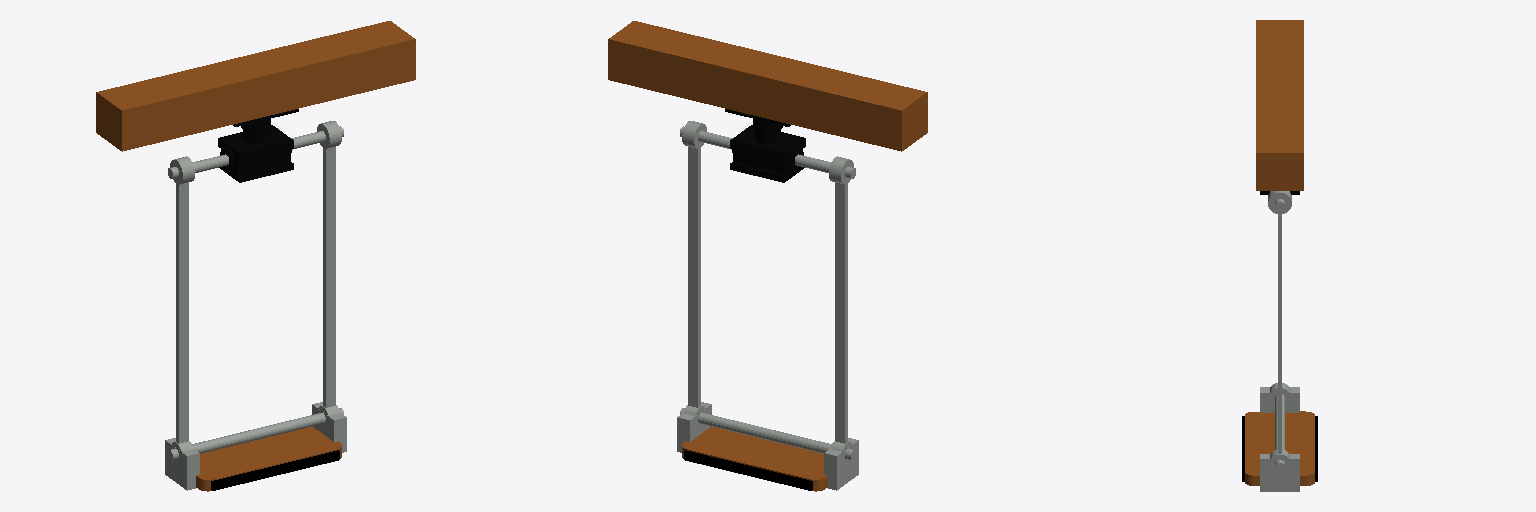
URDF robot description (strap_swing_swivel):
<robot name="strap_swing_swivel">
  <material name="warm_oiled_wood">
    <color rgba="0.6 0.36 0.16 1" />
    </material>
  <material name="dark_blued_steel">
    <color rgba="0.05 0.055 0.06 1" />
    </material>
  <material name="brushed_galvanized_steel">
    <color rgba="0.62 0.64 0.62 1" />
    </material>
  <material name="black_rubber_edge">
    <color rgba="0.01 0.01 0.012 1" />
    </material>
  <link name="beam">
    <visual name="timber_beam">
      <origin xyz="0 0 0.16" rpy="0 0 0" />
      <geometry>
        <box size="1.2 0.18 0.16" />
        </geometry>
      <material name="warm_oiled_wood">
        <color rgba="0.6 0.36 0.16 1" />
        </material>
      </visual>
    <visual name="mount_plate">
      <origin xyz="0 0 0.071" rpy="0 0 0" />
      <geometry>
        <box size="0.26 0.16 0.018" />
        </geometry>
      <material name="dark_blued_steel">
        <color rgba="0.05 0.055 0.06 1" />
        </material>
      </visual>
    <visual name="fixed_bearing">
      <origin xyz="0 0 0.035" rpy="0 0 0" />
      <geometry>
        <cylinder radius="0.052" length="0.07" />
        </geometry>
      <material name="dark_blued_steel">
        <color rgba="0.05 0.055 0.06 1" />
        </material>
      </visual>
    <visual name="bolt_0_0">
      <origin xyz="-0.085 -0.045 0.058" rpy="0 0 0" />
      <geometry>
        <cylinder radius="0.012" length="0.008" />
        </geometry>
      <material name="dark_blued_steel">
        <color rgba="0.05 0.055 0.06 1" />
        </material>
      </visual>
    <visual name="bolt_0_1">
      <origin xyz="-0.085 0.045 0.058" rpy="0 0 0" />
      <geometry>
        <cylinder radius="0.012" length="0.008" />
        </geometry>
      <material name="dark_blued_steel">
        <color rgba="0.05 0.055 0.06 1" />
        </material>
      </visual>
    <visual name="bolt_1_0">
      <origin xyz="0.085 -0.045 0.058" rpy="0 0 0" />
      <geometry>
        <cylinder radius="0.012" length="0.008" />
        </geometry>
      <material name="dark_blued_steel">
        <color rgba="0.05 0.055 0.06 1" />
        </material>
      </visual>
    <visual name="bolt_1_1">
      <origin xyz="0.085 0.045 0.058" rpy="0 0 0" />
      <geometry>
        <cylinder radius="0.012" length="0.008" />
        </geometry>
      <material name="dark_blued_steel">
        <color rgba="0.05 0.055 0.06 1" />
        </material>
      </visual>
    </link>
  <link name="swivel_block">
    <visual name="swivel_cap">
      <origin xyz="0 0 -0.025" rpy="0 0 0" />
      <geometry>
        <cylinder radius="0.045" length="0.05" />
        </geometry>
      <material name="dark_blued_steel">
        <color rgba="0.05 0.055 0.06 1" />
        </material>
      </visual>
    <visual name="top_web">
      <origin xyz="0 0 -0.064" rpy="0 0 0" />
      <geometry>
        <box size="0.22 0.15 0.035" />
        </geometry>
      <material name="dark_blued_steel">
        <color rgba="0.05 0.055 0.06 1" />
        </material>
      </visual>
    <visual name="upper_bushing">
      <origin xyz="0 0 -0.1" rpy="0 1.5708 0" />
      <geometry>
        <cylinder radius="0.045" length="0.24" />
        </geometry>
      <material name="dark_blued_steel">
        <color rgba="0.05 0.055 0.06 1" />
        </material>
      </visual>
    <visual name="clevis_cheek_0">
      <origin xyz="0 -0.046 -0.1" rpy="0 0 0" />
      <geometry>
        <box size="0.22 0.028 0.1" />
        </geometry>
      <material name="dark_blued_steel">
        <color rgba="0.05 0.055 0.06 1" />
        </material>
      </visual>
    <visual name="clevis_cheek_1">
      <origin xyz="0 0.046 -0.1" rpy="0 0 0" />
      <geometry>
        <box size="0.22 0.028 0.1" />
        </geometry>
      <material name="dark_blued_steel">
        <color rgba="0.05 0.055 0.06 1" />
        </material>
      </visual>
    <visual name="keeper_web">
      <origin xyz="0 0 -0.15" rpy="0 0 0" />
      <geometry>
        <box size="0.22 0.15 0.025" />
        </geometry>
      <material name="dark_blued_steel">
        <color rgba="0.05 0.055 0.06 1" />
        </material>
      </visual>
    </link>
  <link name="seat_hanger">
    <visual name="upper_pin">
      <origin xyz="0 0 0" rpy="0 1.5708 0" />
      <geometry>
        <cylinder radius="0.02" length="0.7" />
        </geometry>
      <material name="brushed_galvanized_steel">
        <color rgba="0.62 0.64 0.62 1" />
        </material>
      </visual>
    <visual name="side_link_0">
      <origin xyz="-0.3 0 -0.56" rpy="0 0 0" />
      <geometry>
        <box size="0.042 0.018 1.11" />
        </geometry>
      <material name="brushed_galvanized_steel">
        <color rgba="0.62 0.64 0.62 1" />
        </material>
      </visual>
    <visual name="upper_eye_0">
      <origin xyz="-0.3 0 0" rpy="0 1.5708 0" />
      <geometry>
        <cylinder radius="0.046" length="0.05" />
        </geometry>
      <material name="brushed_galvanized_steel">
        <color rgba="0.62 0.64 0.62 1" />
        </material>
      </visual>
    <visual name="lower_eye_0">
      <origin xyz="-0.3 0 -1.1" rpy="0 1.5708 0" />
      <geometry>
        <cylinder radius="0.043" length="0.05" />
        </geometry>
      <material name="brushed_galvanized_steel">
        <color rgba="0.62 0.64 0.62 1" />
        </material>
      </visual>
    <visual name="seat_bracket_0">
      <origin xyz="-0.3 0 -1.145" rpy="0 0 0" />
      <geometry>
        <box size="0.052 0.155 0.135" />
        </geometry>
      <material name="brushed_galvanized_steel">
        <color rgba="0.62 0.64 0.62 1" />
        </material>
      </visual>
    <visual name="side_link_1">
      <origin xyz="0.3 0 -0.56" rpy="0 0 0" />
      <geometry>
        <box size="0.042 0.018 1.11" />
        </geometry>
      <material name="brushed_galvanized_steel">
        <color rgba="0.62 0.64 0.62 1" />
        </material>
      </visual>
    <visual name="upper_eye_1">
      <origin xyz="0.3 0 0" rpy="0 1.5708 0" />
      <geometry>
        <cylinder radius="0.046" length="0.05" />
        </geometry>
      <material name="brushed_galvanized_steel">
        <color rgba="0.62 0.64 0.62 1" />
        </material>
      </visual>
    <visual name="lower_eye_1">
      <origin xyz="0.3 0 -1.1" rpy="0 1.5708 0" />
      <geometry>
        <cylinder radius="0.043" length="0.05" />
        </geometry>
      <material name="brushed_galvanized_steel">
        <color rgba="0.62 0.64 0.62 1" />
        </material>
      </visual>
    <visual name="seat_bracket_1">
      <origin xyz="0.3 0 -1.145" rpy="0 0 0" />
      <geometry>
        <box size="0.052 0.155 0.135" />
        </geometry>
      <material name="brushed_galvanized_steel">
        <color rgba="0.62 0.64 0.62 1" />
        </material>
      </visual>
    <visual name="lower_pin">
      <origin xyz="0 0 -1.1" rpy="0 1.5708 0" />
      <geometry>
        <cylinder radius="0.02" length="0.7" />
        </geometry>
      <material name="brushed_galvanized_steel">
        <color rgba="0.62 0.64 0.62 1" />
        </material>
      </visual>
    <visual name="seat_board">
      <origin xyz="0 0 -1.185" rpy="0 0 0" />
      <geometry>
        <mesh filename="assets/meshes/rounded_seat_board.obj" />
        </geometry>
      <material name="warm_oiled_wood">
        <color rgba="0.6 0.36 0.16 1" />
        </material>
      </visual>
    <visual name="seat_edge_0">
      <origin xyz="0 -0.136 -1.185" rpy="0 0 0" />
      <geometry>
        <box size="0.52 0.018 0.035" />
        </geometry>
      <material name="black_rubber_edge">
        <color rgba="0.01 0.01 0.012 1" />
        </material>
      </visual>
    <visual name="seat_edge_1">
      <origin xyz="0 0.136 -1.185" rpy="0 0 0" />
      <geometry>
        <box size="0.52 0.018 0.035" />
        </geometry>
      <material name="black_rubber_edge">
        <color rgba="0.01 0.01 0.012 1" />
        </material>
      </visual>
    </link>
  <joint name="beam_to_swivel" type="continuous">
    <parent link="beam" />
    <child link="swivel_block" />
    <axis xyz="0 0 1" />
    <limit effort="50" velocity="1.5" />
    </joint>
  <joint name="swivel_to_hanger" type="revolute">
    <origin xyz="0 0 -0.1" rpy="0 0 0" />
    <parent link="swivel_block" />
    <child link="seat_hanger" />
    <axis xyz="1 0 0" />
    <limit effort="80" velocity="2.5" lower="-0.75" upper="0.75" />
    </joint>
  </robot>

--- Render facts (derived) ---
3 views of the same robot in one strip: view 1: azimuth 30°, elevation 25°; view 2: azimuth 150°, elevation 25°; view 3: azimuth 270°, elevation 25° (orthographic).
Robot: strap_swing_swivel — 3 links, 2 joints (1 revolute, 1 continuous); root link beam; default pose: all joints at 0.
Visible links, largest first — view 1: beam, seat_hanger, swivel_block; view 2: beam, seat_hanger, swivel_block; view 3: beam, seat_hanger.
Link boxes in pixels (<box>): beam: <box>96,21,415,151</box>; seat_hanger: <box>165,121,346,491</box>; swivel_block: <box>218,125,293,182</box>; beam: <box>608,21,927,151</box>; seat_hanger: <box>677,121,858,491</box>; swivel_block: <box>730,125,805,182</box>; beam: <box>1256,20,1303,190</box>; seat_hanger: <box>1242,191,1317,491</box>.
Size in the robot's own frame: 1.2 by 0.29 by 1.55 metres.
Meshes: 1 distinct files referenced, 1 mesh visuals loaded (1 OBJ).
